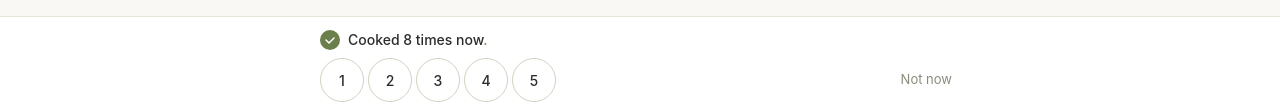
Test: JustCookedStrip › 403 from /rate › shows the gate sentence in mocha and does not call onDismiss
Click the radio button named "1 star" at (342,80), box [320, 58, 364, 102]
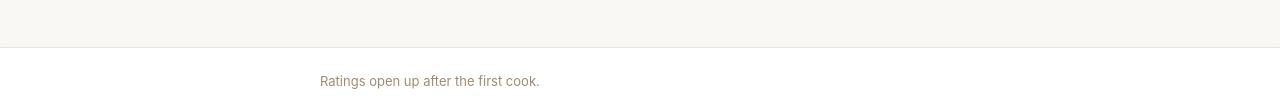
Expected: the text "Ratings open up after the first cook." is shown, [320, 73, 540, 89]
